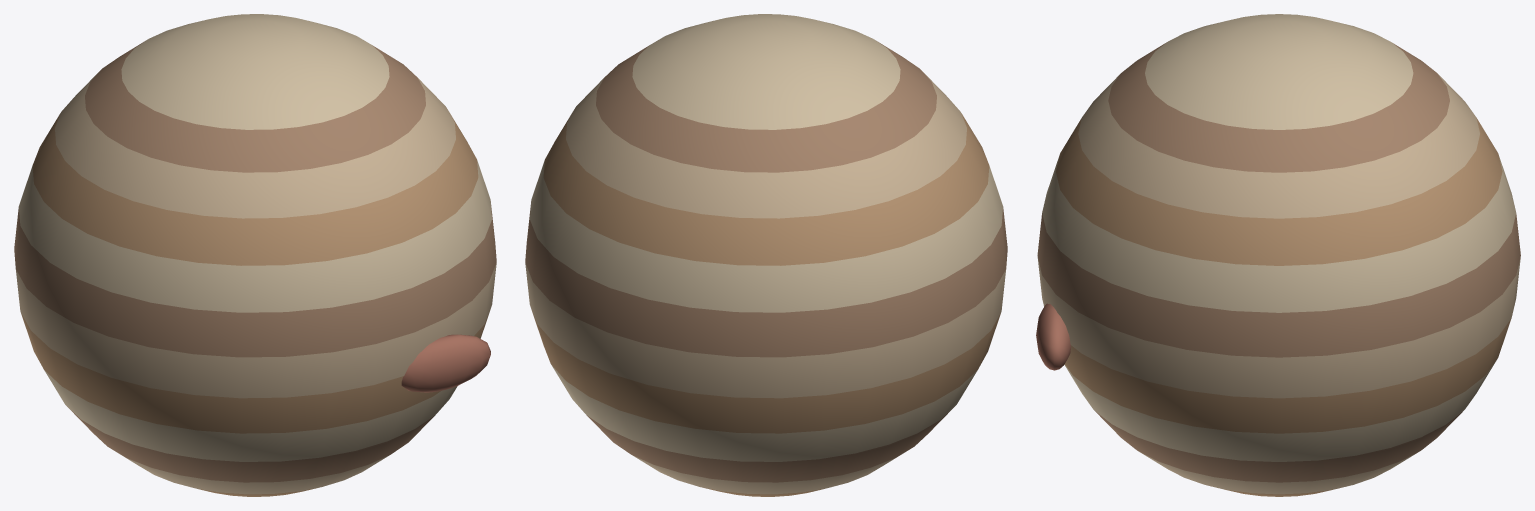
File: planet_jupiter.glb
The picture shows the model from 3 angles, left to right: view 1: azimuth 30°, elevation 25°; view 2: azimuth 150°, elevation 25°; view 3: azimuth 270°, elevation 25°; orthographic projection.
Parts seen in each view (by area): view 1: body; view 2: body; view 3: body.
Part boxes in pixels (bbox=[...]): body: bbox=[14, 14, 496, 496]; body: bbox=[525, 14, 1007, 496]; body: bbox=[1036, 14, 1520, 496].
Bounding box in the file's own units: 1.7 × 1.7 × 1.71.
